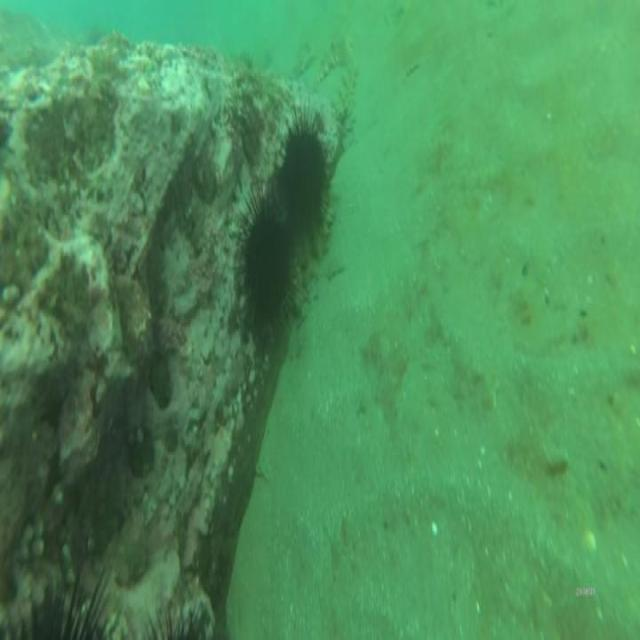echinus: (239, 191, 294, 335), (276, 117, 332, 243)
